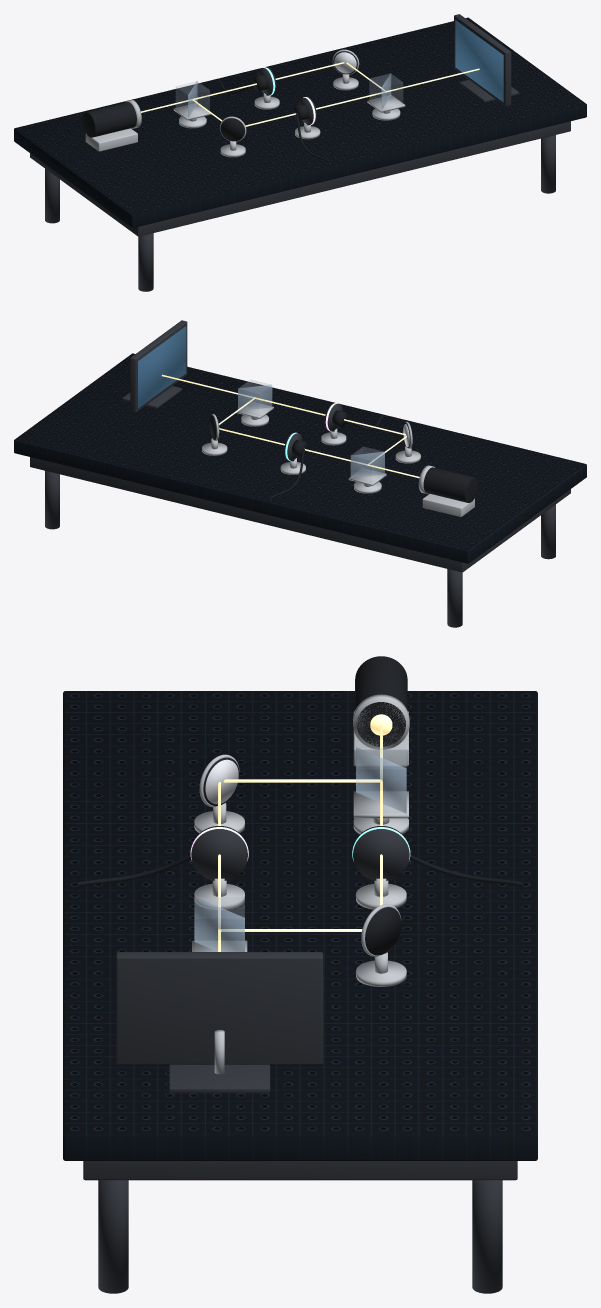
The model's file is interferometer_pro.glb.
The picture shows the model from 3 angles, top to bottom: view 1: azimuth 30°, elevation 25°; view 2: azimuth 150°, elevation 25°; view 3: azimuth 270°, elevation 25°; orthographic projection. The views are drawn at different scales.
Visible parts, largest first — view 1: Table, TableSkirt, Screen_Display, LaserBody, MonitorFrame, BS2_Glass, BS1_Glass, Leg, Leg.002, LaserFoot, Leg.001, MirrorB_Back (+4 smaller); view 2: Table, TableSkirt, Screen_Display, LaserBody, MonitorFrame, BS1_Glass, BS2_Glass, Leg.001, Leg.003, BS1_Film, LaserFoot, BS2_Film (+3 smaller); view 3: Table, MonitorFrame, TableSkirt, Leg.002, Leg.003, LaserBody, BS1_Glass, MonitorBase, BS2_Glass, DetA_Housing, DetB_Housing, BS1_Film (+9 smaller).
Part boxes in pixels (bbox=[...]): Table: bbox=[14, 17, 586, 227]; TableSkirt: bbox=[30, 121, 570, 236]; Screen_Display: bbox=[455, 20, 503, 102]; LaserBody: bbox=[82, 102, 136, 137]; MonitorFrame: bbox=[454, 14, 511, 106]; BS2_Glass: bbox=[369, 74, 402, 109]; BS1_Glass: bbox=[176, 81, 209, 116]; Leg: bbox=[138, 233, 153, 291]; Leg.002: bbox=[541, 135, 555, 193]; LaserFoot: bbox=[85, 128, 137, 151]; Leg.001: bbox=[45, 169, 59, 223]; MirrorB_Back: bbox=[220, 118, 244, 141]; Table: bbox=[14, 353, 586, 563]; TableSkirt: bbox=[30, 457, 570, 572]; Screen_Display: bbox=[138, 326, 186, 408]; LaserBody: bbox=[423, 467, 477, 502]; MonitorFrame: bbox=[130, 320, 187, 412]; BS1_Glass: bbox=[351, 447, 384, 482]; BS2_Glass: bbox=[238, 380, 271, 415]; Leg.001: bbox=[447, 569, 462, 627]; Leg.003: bbox=[45, 471, 59, 529]; BS1_Film: bbox=[350, 451, 384, 477]; LaserFoot: bbox=[422, 494, 474, 516]; BS2_Film: bbox=[238, 384, 272, 410]; Table: bbox=[63, 691, 537, 1160]; MonitorFrame: bbox=[116, 952, 323, 1064]; TableSkirt: bbox=[83, 1161, 517, 1180]; Leg.002: bbox=[98, 1180, 128, 1293]; Leg.003: bbox=[472, 1180, 502, 1293]; LaserBody: bbox=[355, 656, 407, 746]; BS1_Glass: bbox=[356, 748, 406, 812]; MonitorBase: bbox=[169, 1064, 270, 1093]; BS2_Glass: bbox=[194, 897, 244, 951]; DetA_Housing: bbox=[353, 826, 409, 880]; DetB_Housing: bbox=[191, 826, 247, 880]; BS1_Film: bbox=[356, 747, 406, 813].
Bounding box in the file's own units: 20.8 × 6.43 × 9.4.
Materials: 13 (1 with a texture image).
